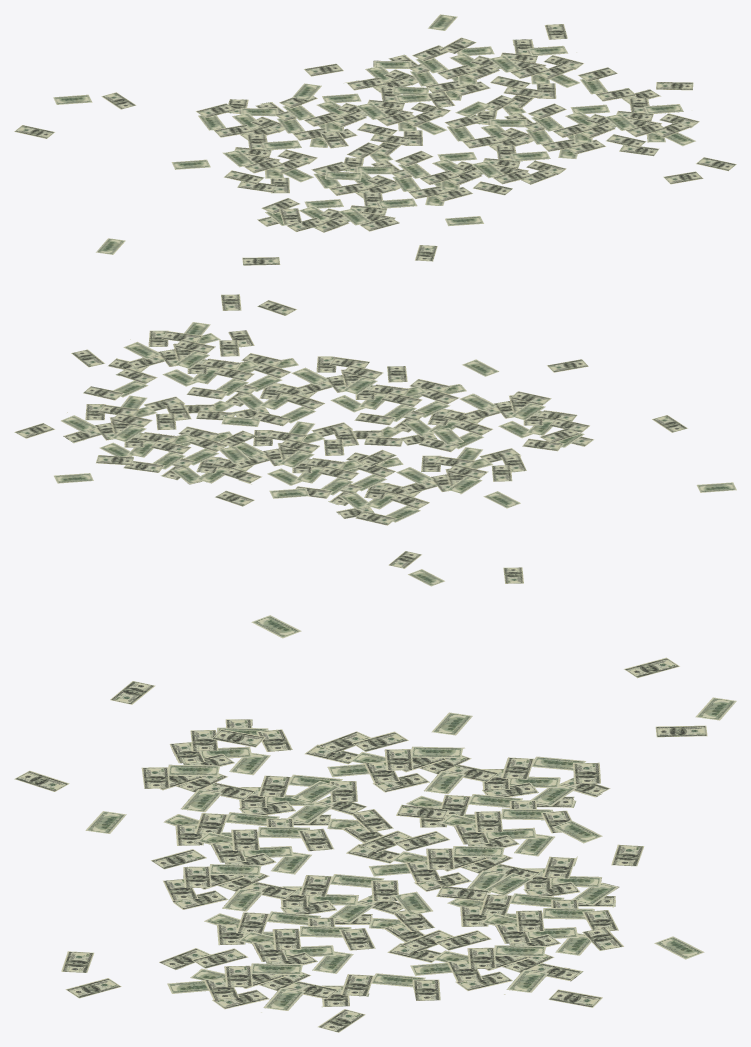
The model's file is Cash Scatter.fbx.
3 renders of one model, top to bottom at view 1: azimuth 30°, elevation 25°; view 2: azimuth 150°, elevation 25°; view 3: azimuth 270°, elevation 25°, orthographic. The views are drawn at different scales.
Visible parts, largest first — view 1: cash_scatter; view 2: cash_scatter; view 3: cash_scatter.
Boxes of the visible parts, bbox=[...] form: cash_scatter: bbox=[14, 14, 736, 265]; cash_scatter: bbox=[14, 294, 736, 586]; cash_scatter: bbox=[14, 615, 736, 1032].
Size of the model in its own units: 288 by 0.1465 by 211.
1 material, 1 textured.
